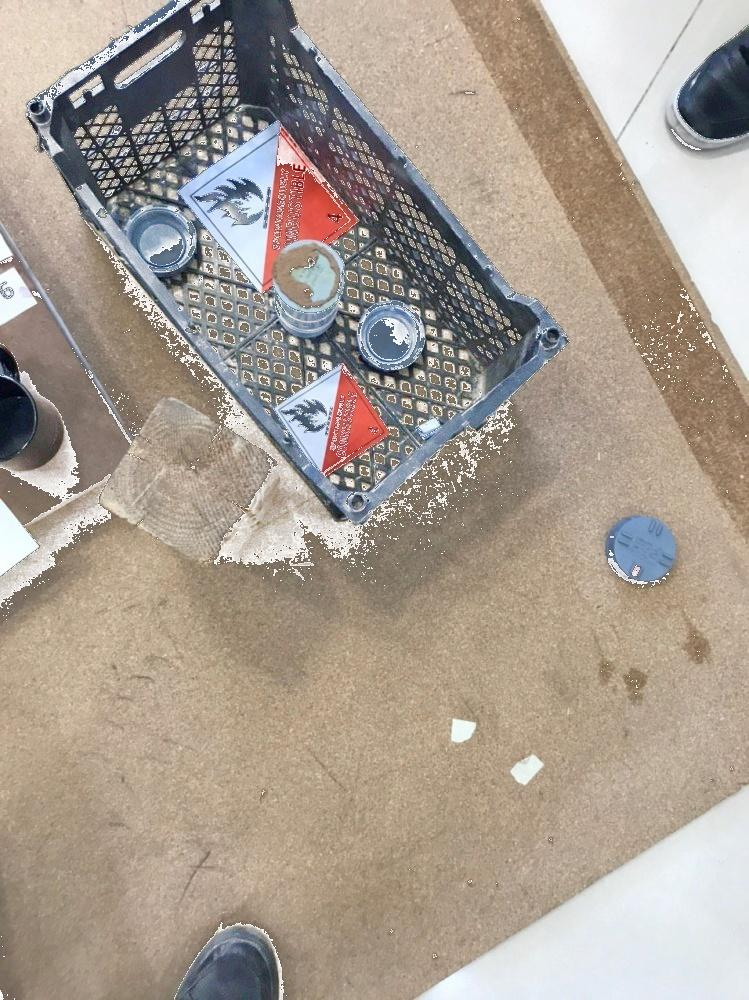spontaneously-combustible: (184, 121, 361, 296), (276, 364, 390, 477)
